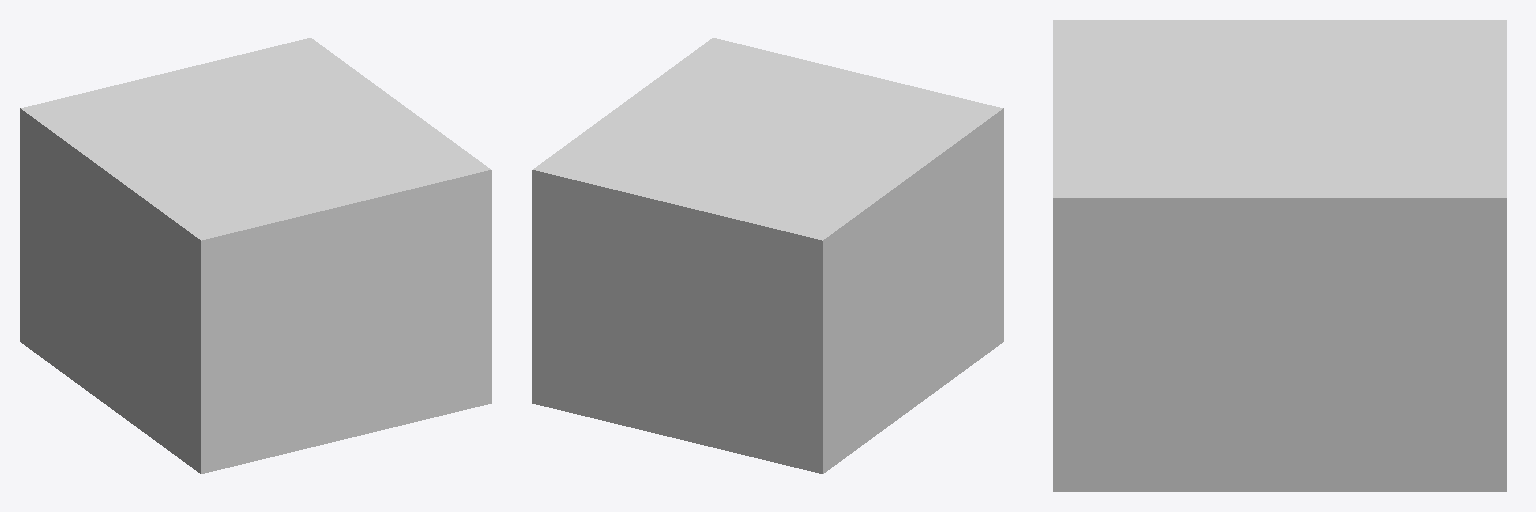
The robot description file, URDF, robot "table":
<?xml version="1.0"?>
<robot name="table">
	<link name="base">
	<inertial>
        	 <origin xyz="0 0 0" rpy="0 0 0"/>
        	 <mass value="1"/>
        	 <inertia ixx="0.000683333"  ixy="0"  ixz="0" iyy="0.000683333" iyz="0" izz="0.000683333" />
       </inertial>
		<visual>
			<origin xyz="0 0 0" rpy="0 0 0" />
			<geometry>
				<box size="0.013 0.014 0.01" />
			</geometry>
			 <material>
		<color rgba="0.9 0.9 0.9 1" />
	    </material>
		</visual>
	<collision>
            <origin xyz="0 0 0" rpy="0 0 0" />
            <geometry>
		<box size="0.02 0.012 0.007" />
            </geometry>
	    <material>
		<color rgba="0.9 0.9 0.9 1" />
	    </material>
        </collision>
	</link>
</robot>

--- Facts derived from the render (not from the file) ---
Views: 3 orthographic renders of the robot side by side, from view 1: azimuth 30°, elevation 25°; view 2: azimuth 150°, elevation 25°; view 3: azimuth 270°, elevation 25°.
Model table with 1 links and 0 joints (none), rooted at base, posed all joints at 0.
Visible links, largest first — view 1: base; view 2: base; view 3: base.
Boxes of the visible links, x1,y1,x2,y2 form: base: (20, 38, 491, 473); base: (532, 38, 1003, 473); base: (1053, 20, 1506, 491).
Size in the robot's own frame: 0.013 by 0.014 by 0.01 metres.
Geometry: primitives only (box / cylinder / sphere), no mesh files.
